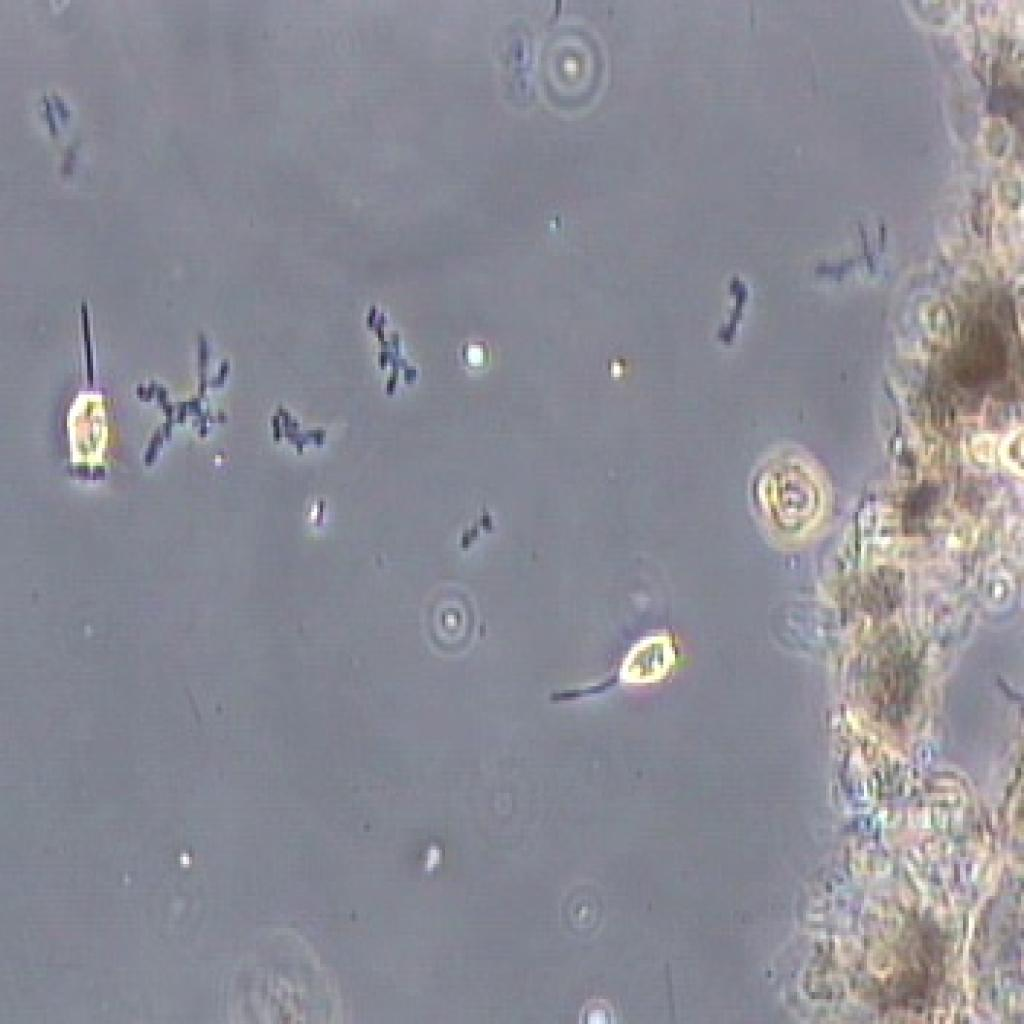Vorticella: (535, 613, 704, 727)
